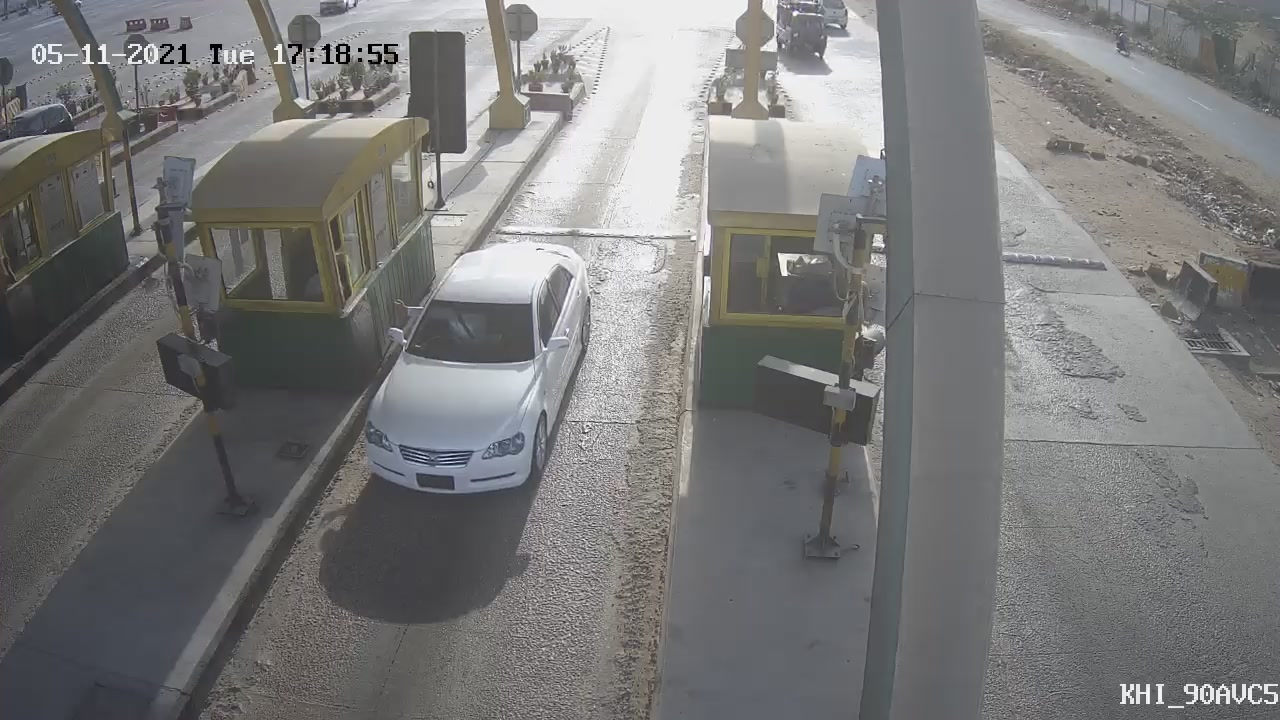F1: (324, 218, 614, 521)
